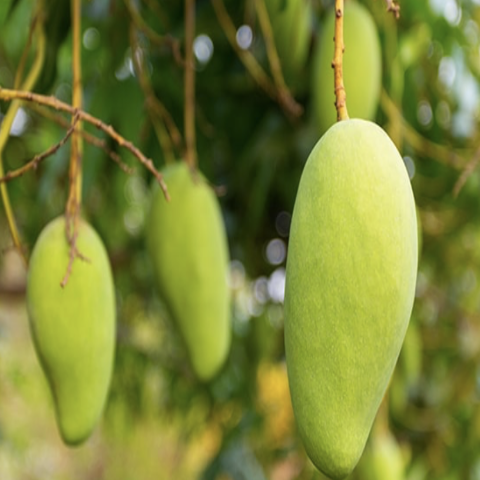mango: (262, 108, 442, 479), (133, 154, 243, 396), (15, 207, 119, 452)
